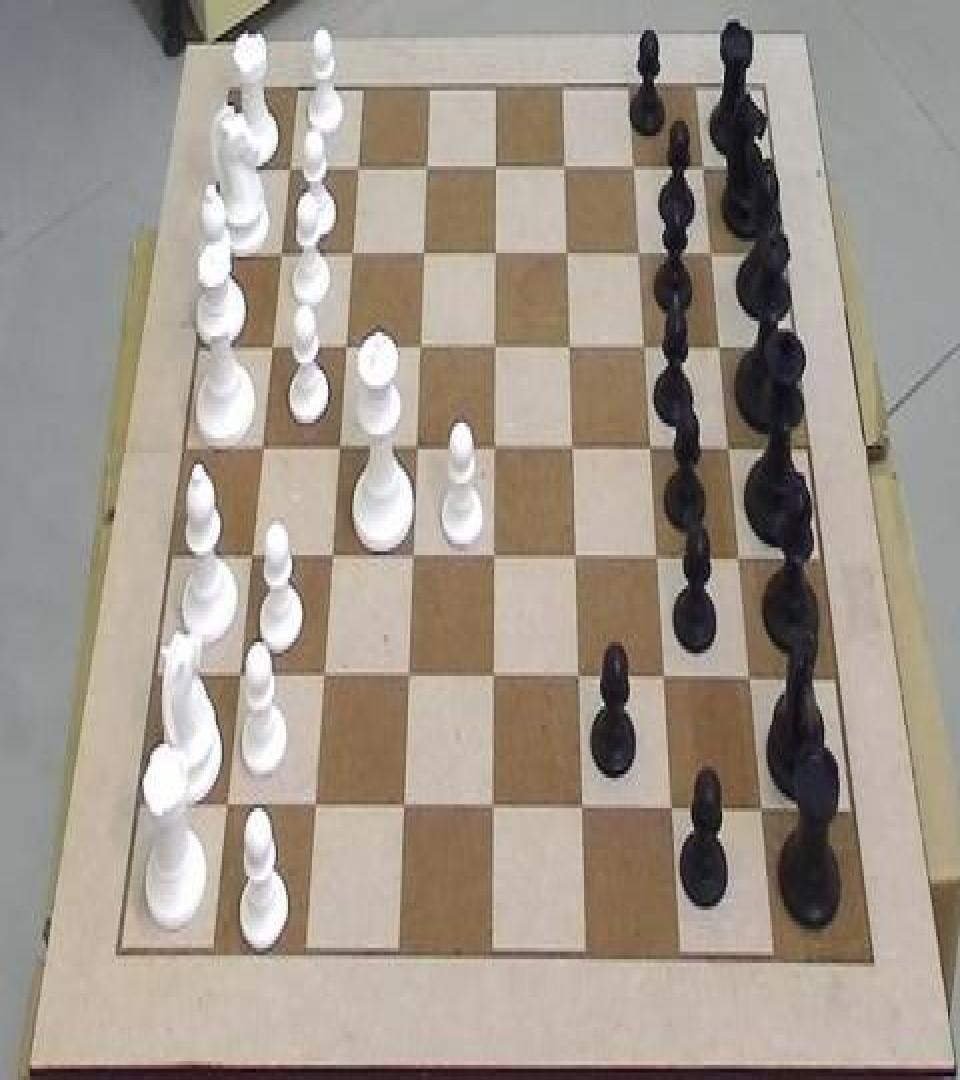xcorner: (712, 330, 732, 369), (695, 151, 715, 189), (626, 151, 646, 189), (556, 149, 576, 187), (486, 149, 506, 187), (417, 149, 437, 187), (347, 149, 367, 187), (278, 149, 298, 187), (703, 236, 723, 274), (631, 236, 651, 274), (558, 236, 578, 274), (486, 236, 506, 274), (414, 236, 434, 274), (342, 236, 362, 274), (270, 236, 290, 274), (636, 328, 656, 366), (561, 328, 581, 366), (486, 328, 506, 366), (411, 328, 431, 366), (336, 328, 356, 366), (261, 328, 281, 366), (721, 430, 741, 468), (642, 430, 662, 468), (564, 430, 584, 468), (485, 430, 505, 468), (407, 428, 427, 466), (329, 428, 349, 466), (251, 428, 271, 466), (730, 540, 750, 578), (649, 540, 669, 578), (567, 540, 587, 578), (485, 540, 505, 578), (403, 538, 423, 576), (322, 538, 342, 576), (241, 538, 261, 576), (741, 660, 761, 698), (656, 659, 676, 697), (570, 659, 590, 697), (485, 659, 505, 697), (399, 659, 419, 697), (314, 657, 334, 695), (229, 657, 249, 695), (753, 791, 773, 829), (663, 791, 683, 829), (574, 789, 594, 827), (484, 789, 504, 827), (395, 789, 415, 827), (306, 789, 326, 827), (216, 787, 236, 825)
